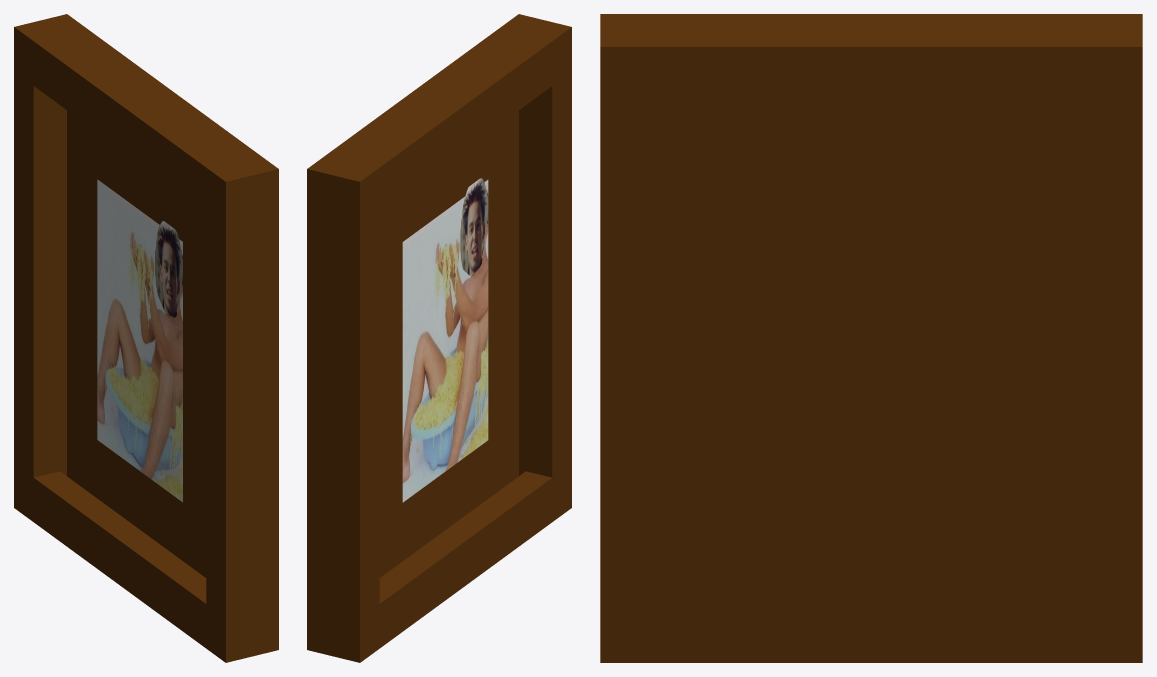
File: quadro.fbx
The picture shows the model from 3 angles, left to right: view 1: azimuth 30°, elevation 25°; view 2: azimuth 150°, elevation 25°; view 3: azimuth 270°, elevation 25°; orthographic projection. The views are drawn at different scales.
Visible parts, largest first — view 1: Cube.001; view 2: Cube.001; view 3: Cube.001.
Boxes of the visible parts, <box> form: Cube.001: <box>14,14,278,662</box>; Cube.001: <box>307,14,571,662</box>; Cube.001: <box>600,14,1142,662</box>.
Size of the model in its own units: 50.56 by 438 by 350.
Materials: 2 (1 with a texture image).
